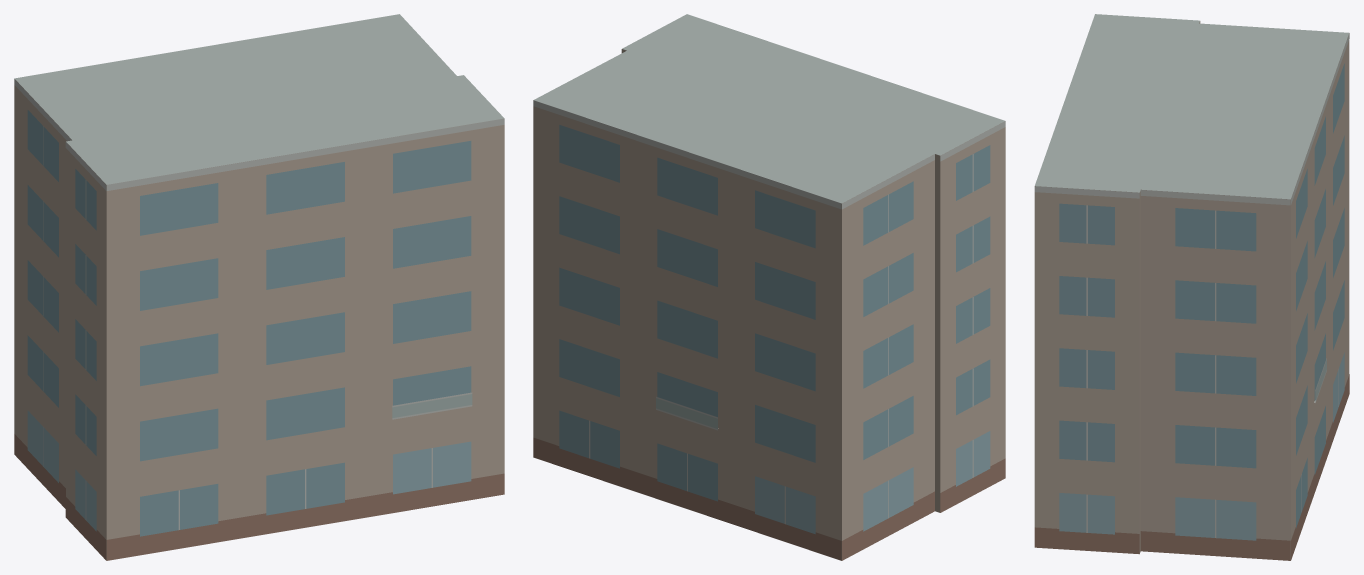
File: survey-upis-32671532.glb
The picture shows the model from 3 angles, left to right: view 1: azimuth 30°, elevation 25°; view 2: azimuth 150°, elevation 25°; view 3: azimuth 270°, elevation 25°; orthographic projection. The views are drawn at different scales.
Parts seen in each view (by area): view 1: survey-upis-32671532.tmp; view 2: survey-upis-32671532.tmp; view 3: survey-upis-32671532.tmp.
Boxes of the visible parts, x1,y1,x2,y2 form: survey-upis-32671532.tmp: (14, 14, 504, 560); survey-upis-32671532.tmp: (533, 14, 1005, 560); survey-upis-32671532.tmp: (1034, 14, 1349, 560).
Size of the model in its own units: 15.95 by 14.5 by 11.45.
